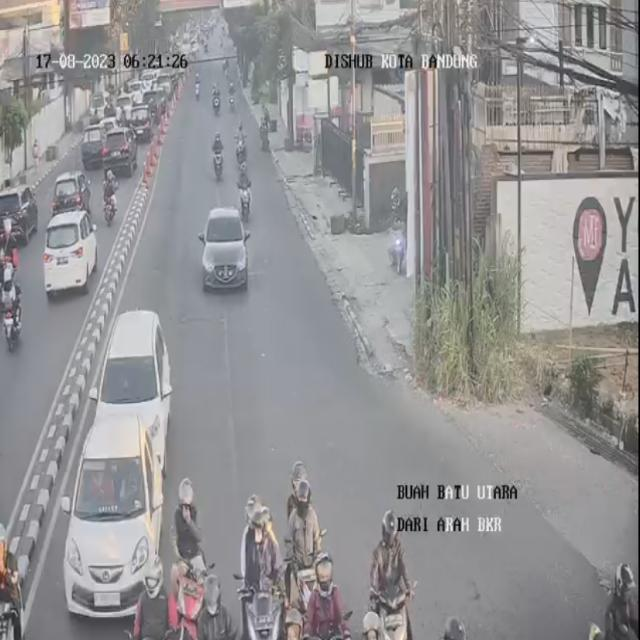cars: (57, 409, 160, 626), (94, 306, 177, 464), (203, 204, 251, 296)
motorcycle: (280, 458, 328, 640), (168, 473, 213, 639), (236, 492, 286, 639), (364, 507, 416, 638), (307, 561, 353, 640), (601, 562, 640, 640), (0, 523, 24, 640), (428, 614, 480, 640), (356, 610, 395, 640), (238, 162, 256, 222), (211, 127, 226, 184), (260, 96, 276, 148), (239, 122, 251, 167), (212, 82, 223, 119), (192, 71, 202, 99)
